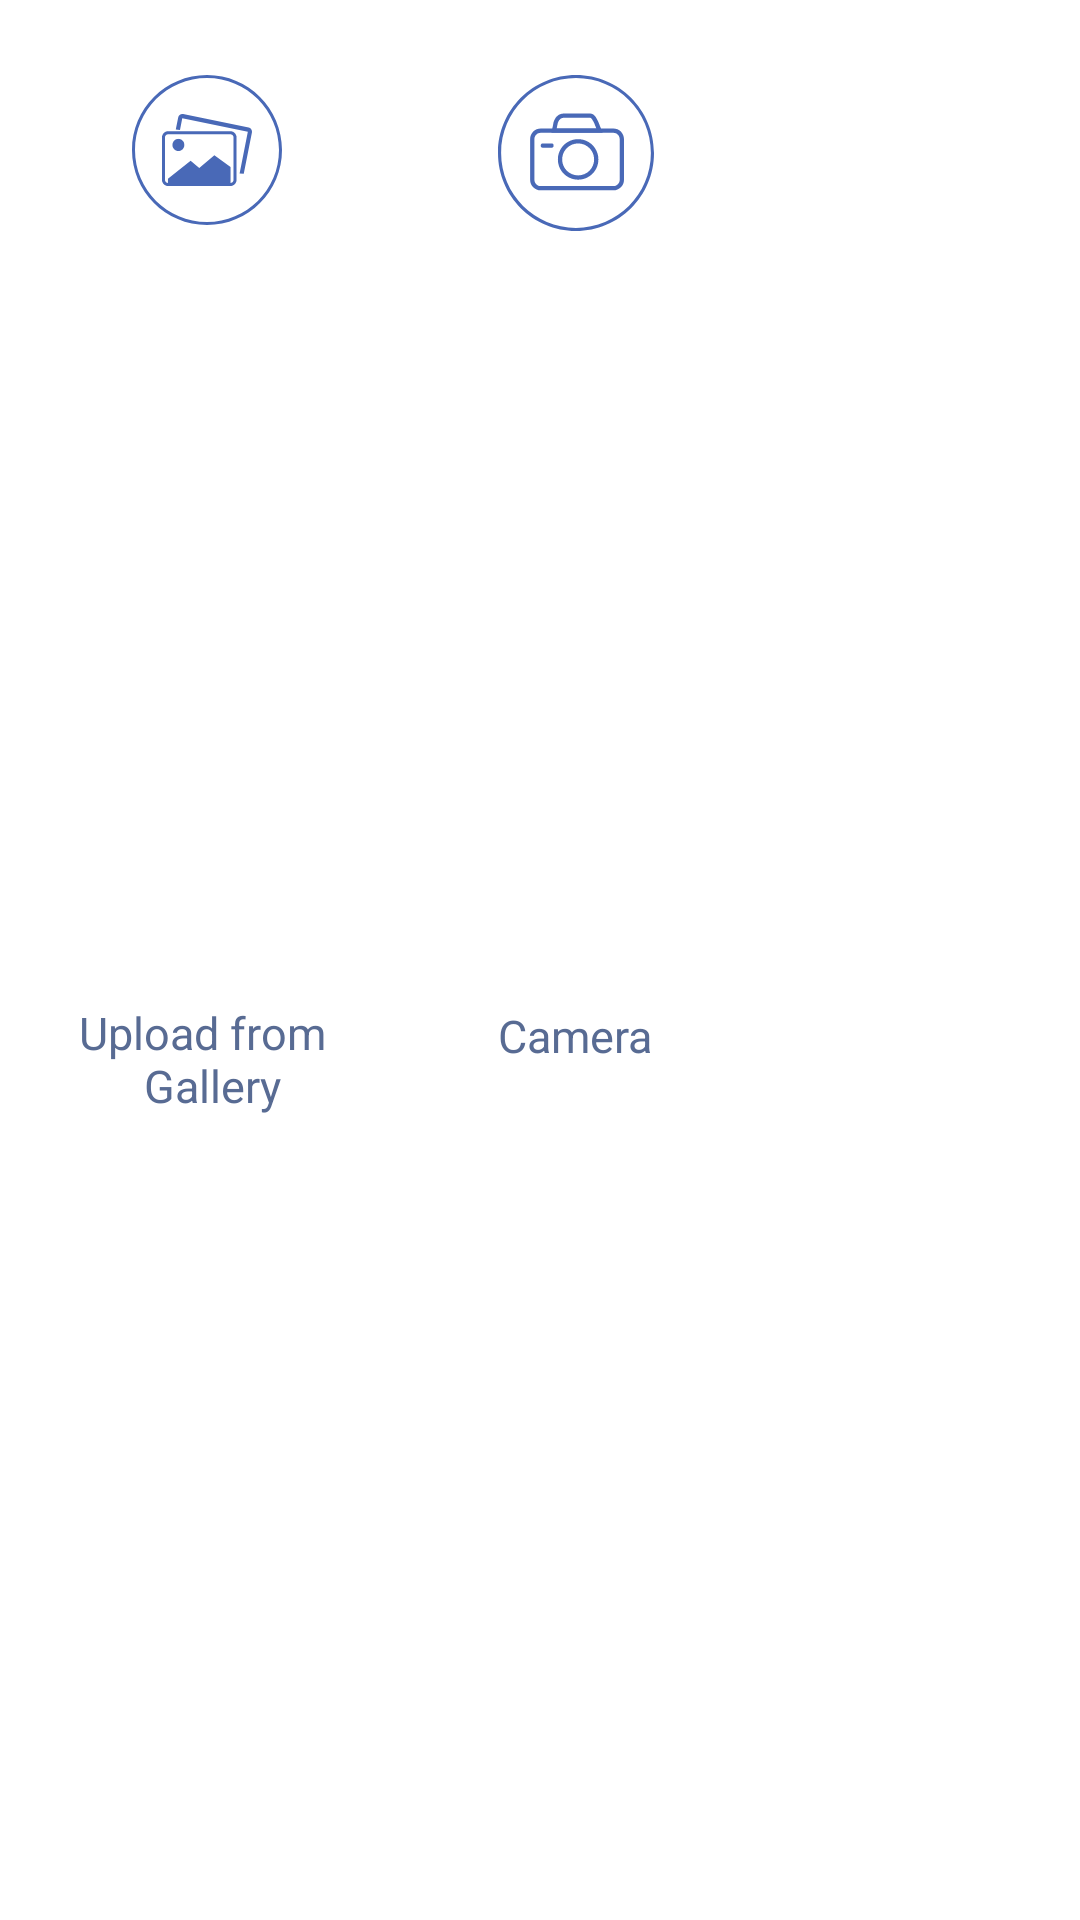

Icon click points for this 1080px×1920px phone screenshot, format [x,y]:
camera options: [576,153]
gallery: [207,150]
